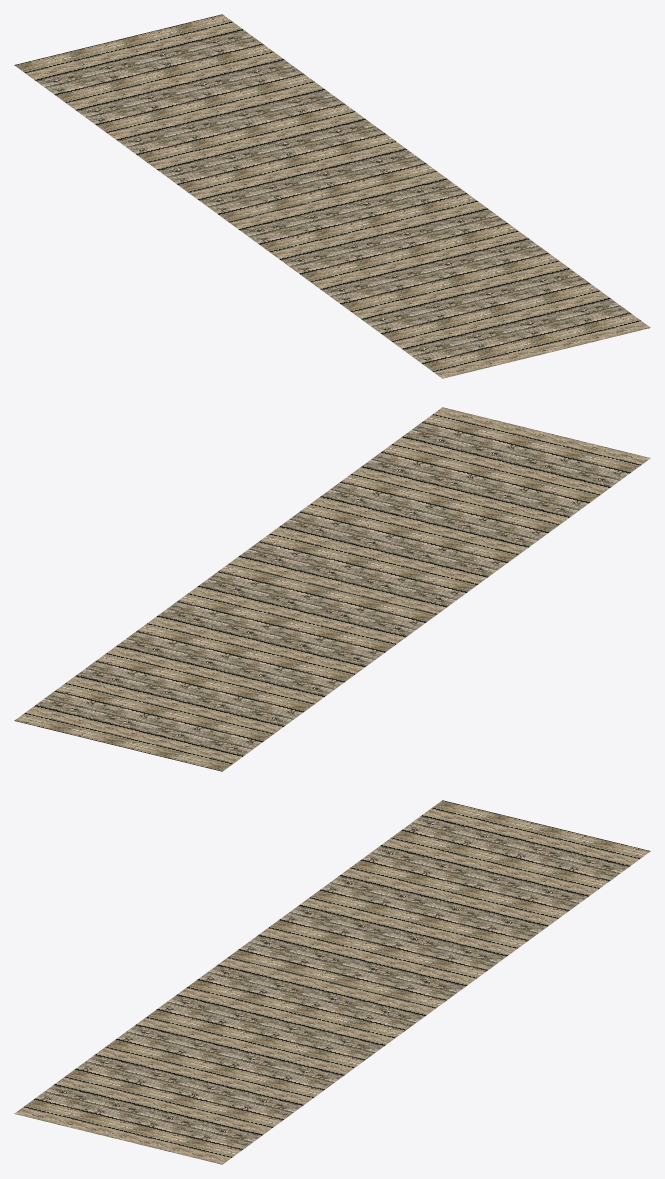
The model's file is LAKETOWN_WAREHOUSE2_PS_WH2_EXIT_ROOF939384.fbx.
3 views of the same model, one above another, from view 1: azimuth 30°, elevation 25°; view 2: azimuth 150°, elevation 25°; view 3: azimuth 330°, elevation 25° (orthographic).
Parts seen in each view (by area): view 1: LAKETOWN_WAREHOUSE2_PS_WH2_EXIT_ROOF939384; view 2: LAKETOWN_WAREHOUSE2_PS_WH2_EXIT_ROOF939384; view 3: LAKETOWN_WAREHOUSE2_PS_WH2_EXIT_ROOF939384.
Part boxes in pixels (x1=…): LAKETOWN_WAREHOUSE2_PS_WH2_EXIT_ROOF939384: x1=14, y1=14, x2=650, y2=378; LAKETOWN_WAREHOUSE2_PS_WH2_EXIT_ROOF939384: x1=14, y1=407, x2=650, y2=771; LAKETOWN_WAREHOUSE2_PS_WH2_EXIT_ROOF939384: x1=14, y1=800, x2=650, y2=1164.
Size of the model in its own units: 78350 by 0.0454 by 278906.
Materials: 1 (1 with a texture image).
